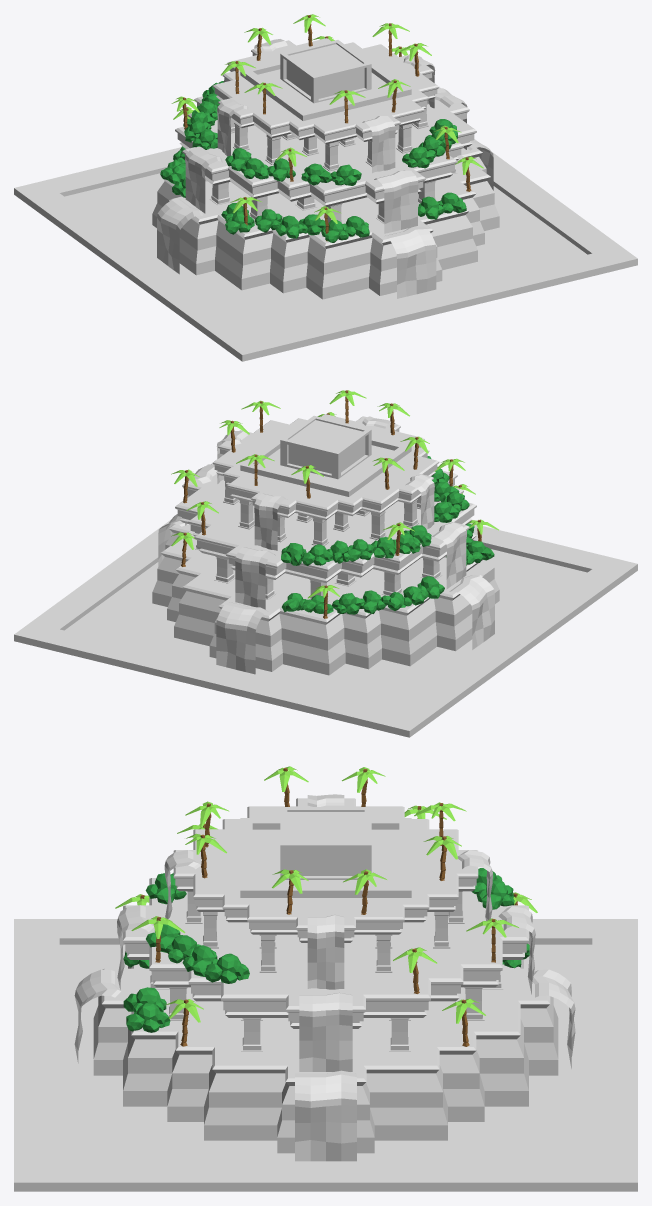
Rendered from Jardines.fbx.
The picture shows the model from 3 angles, top to bottom: view 1: azimuth 30°, elevation 25°; view 2: azimuth 150°, elevation 25°; view 3: azimuth 270°, elevation 25°; orthographic projection. The views are drawn at different scales.
Parts seen in each view (by area): view 1: Cube.048, Cube.049, Cube, Cube.001, Cube.002, Cube.004, Cube.047, Cube.046, Plane, Plane.004, Plane.002, Plane.007 (+3 smaller); view 2: Cube.048, Cube.049, Cube, Cube.001, Cube.002, Cube.004, Cube.047, Cube.046, Plane.003, Plane.005, Plane.002, Plane.007 (+2 smaller); view 3: Cube.048, Cube.049, Cube, Cube.001, Cube.004, Cube.002, Cube.046, Cube.047, Plane.001, Plane.006, Plane.011, Plane.003 (+16 smaller).
Boxes of the visible parts, <box> form: Cube.048: <box>14,139,637,361</box>; Cube.049: <box>65,173,586,335</box>; Cube: <box>152,156,499,299</box>; Cube.001: <box>175,87,476,206</box>; Cube.002: <box>212,38,439,144</box>; Cube.004: <box>161,148,490,248</box>; Cube.047: <box>280,40,371,103</box>; Cube.046: <box>240,43,411,120</box>; Plane: <box>385,226,436,298</box>; Plane.004: <box>374,170,418,233</box>; Plane.002: <box>157,199,202,274</box>; Plane.007: <box>185,146,222,213</box>; Cube.048: <box>14,520,637,737</box>; Cube.049: <box>64,549,587,711</box>; Cube: <box>152,532,499,675</box>; Cube.001: <box>175,463,476,582</box>; Cube.002: <box>212,414,439,520</box>; Cube.004: <box>161,524,482,624</box>; Cube.047: <box>280,415,371,479</box>; Cube.046: <box>240,419,411,496</box>; Plane.003: <box>216,602,268,674</box>; Plane.005: <box>235,547,275,609</box>; Plane.002: <box>449,574,494,649</box>; Plane.007: <box>431,522,466,589</box>; Cube.048: <box>14,919,637,1191</box>; Cube.049: <box>59,944,592,1163</box>; Cube: <box>93,959,558,1153</box>; Cube.001: <box>123,878,528,1028</box>; Cube.004: <box>101,964,550,1085</box>; Cube.002: <box>173,798,478,942</box>; Cube.046: <box>240,818,411,897</box>; Cube.047: <box>280,807,371,879</box>; Plane.001: <box>295,1070,356,1161</box>; Plane.006: <box>299,992,352,1071</box>; Plane.011: <box>307,914,344,989</box>; Plane.003: <box>532,969,575,1068</box>.
Size of the model in its own units: 845 by 359 by 845.
